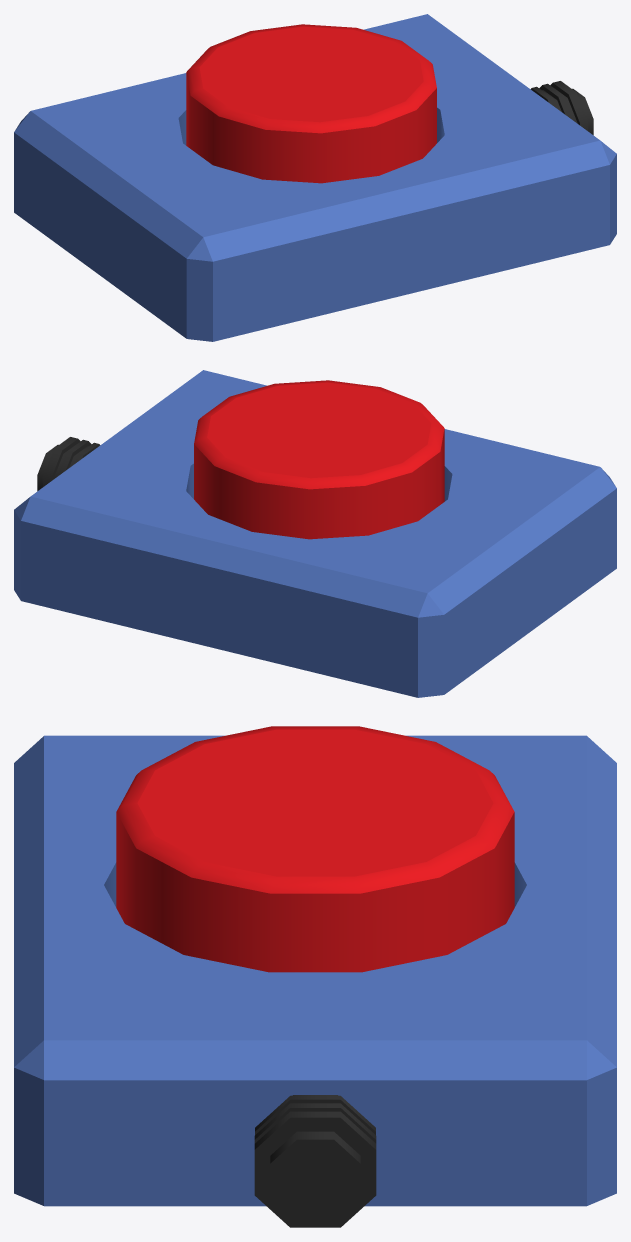
File: bUTTEN.fbx
3 views of the same model, one above another, from view 1: azimuth 30°, elevation 25°; view 2: azimuth 150°, elevation 25°; view 3: azimuth 270°, elevation 25° (orthographic). The views are drawn at different scales.
Visible parts, largest first — view 1: Cube, Cylinder.003; view 2: Cube, Cylinder.003; view 3: Cube, Cylinder.003.
Boxes of the visible parts, x1,y1,x2,y2 form: Cube: (14, 14, 616, 341); Cylinder.003: (186, 24, 436, 183); Cube: (14, 370, 616, 697); Cylinder.003: (194, 380, 444, 539); Cube: (14, 735, 616, 1227); Cylinder.003: (116, 726, 514, 972).
Size of the model in its own units: 0.651 by 0.1946 by 0.452.
